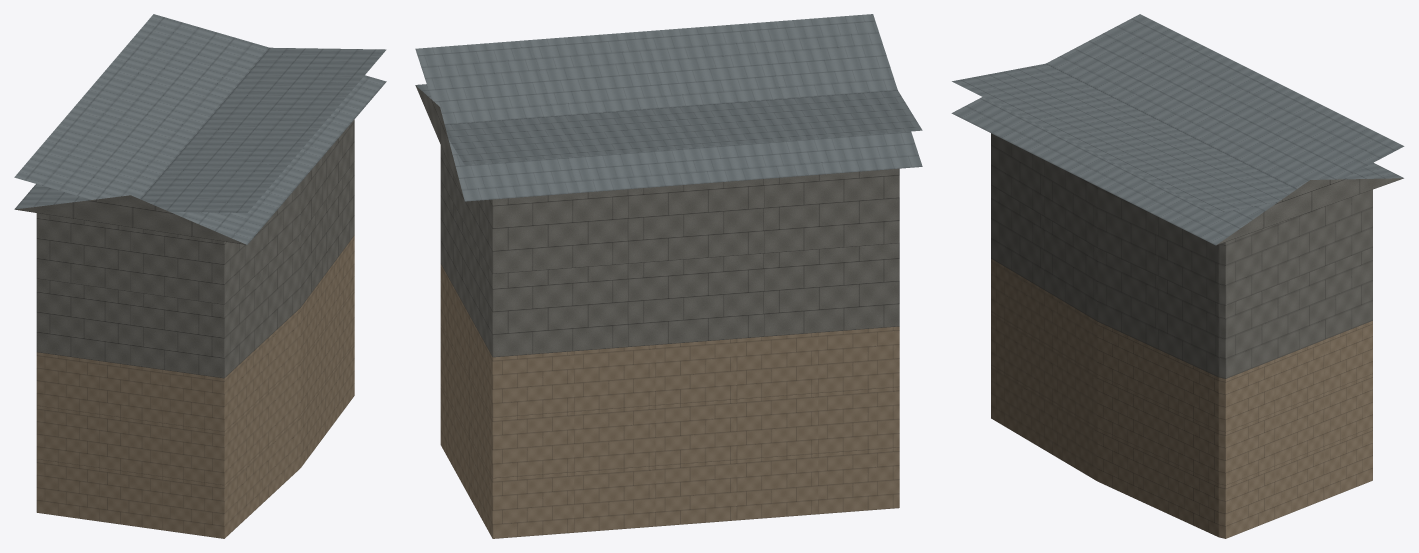
Rendered from bld_c10_11_492.gltf.
3 renders of one model, left to right at view 1: azimuth 30°, elevation 25°; view 2: azimuth 150°, elevation 25°; view 3: azimuth 270°, elevation 25°, orthographic. The views are drawn at different scales.
Parts seen in each view (by area): view 1: bld_c10_11_492; view 2: bld_c10_11_492; view 3: bld_c10_11_492.
Boxes of the visible parts, box(x1,y1,x2,y2) form: bld_c10_11_492: box(14, 14, 386, 538); bld_c10_11_492: box(415, 14, 922, 538); bld_c10_11_492: box(951, 14, 1404, 538).
Size of the model in its own units: 13.41 by 10.6 by 12.86.
Materials: 4 (4 with a texture image).
